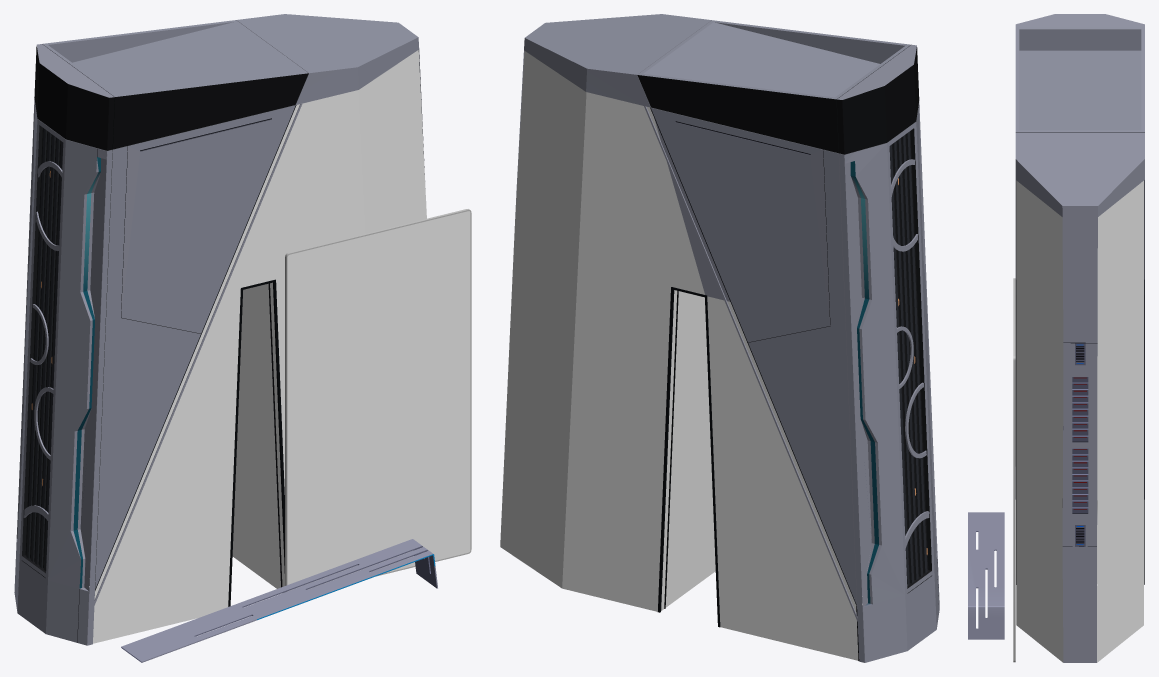
File: Building_006_2st_L1.fbx
The picture shows the model from 3 angles, left to right: view 1: azimuth 30°, elevation 25°; view 2: azimuth 150°, elevation 25°; view 3: azimuth 270°, elevation 25°; orthographic projection. The views are drawn at different scales.
Parts seen in each view (by area): view 1: Building_006_2st_L1; view 2: Building_006_2st_L1; view 3: Building_006_2st_L1.
Boxes of the visible parts, x1=… form: Building_006_2st_L1: x1=14, y1=14, x2=471, y2=662; Building_006_2st_L1: x1=500, y1=14, x2=939, y2=662; Building_006_2st_L1: x1=968, y1=14, x2=1144, y2=662.
Size of the model in its own units: 58.72 by 76.63 by 25.15.
